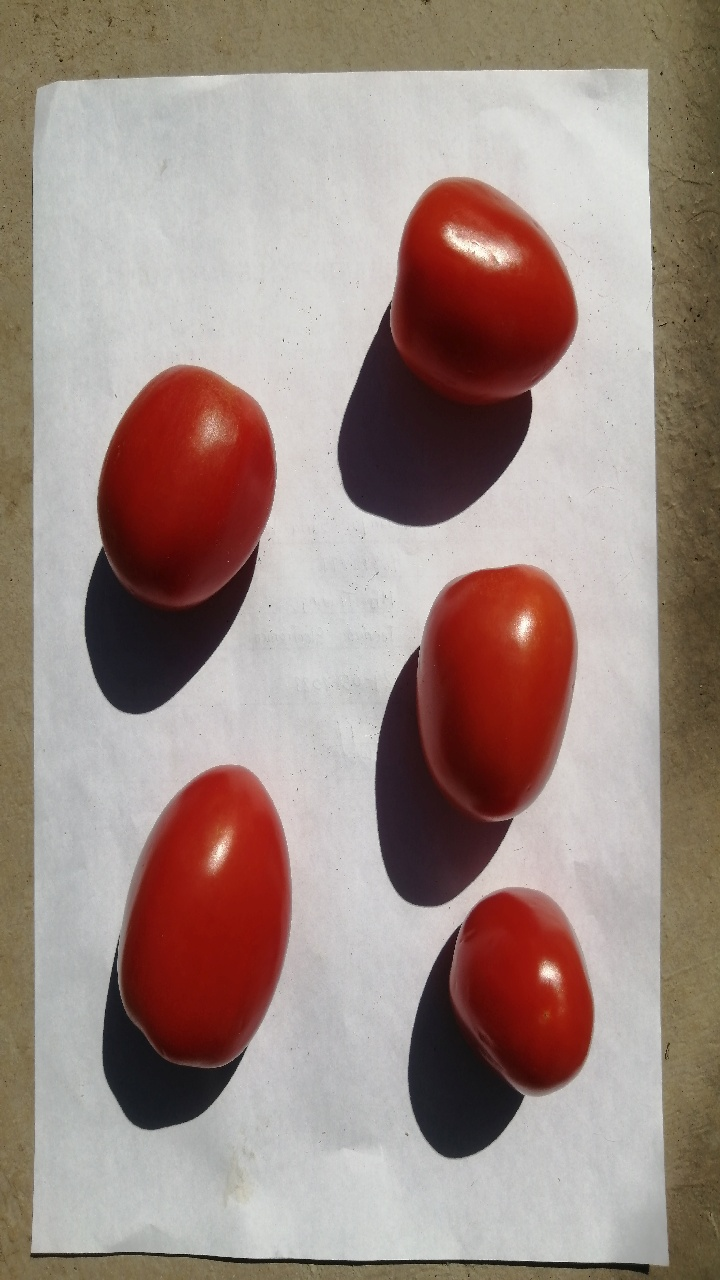tomateRojo: (92, 749, 300, 1095), (389, 543, 597, 848), (80, 337, 289, 626), (369, 157, 597, 409), (431, 862, 617, 1125)
